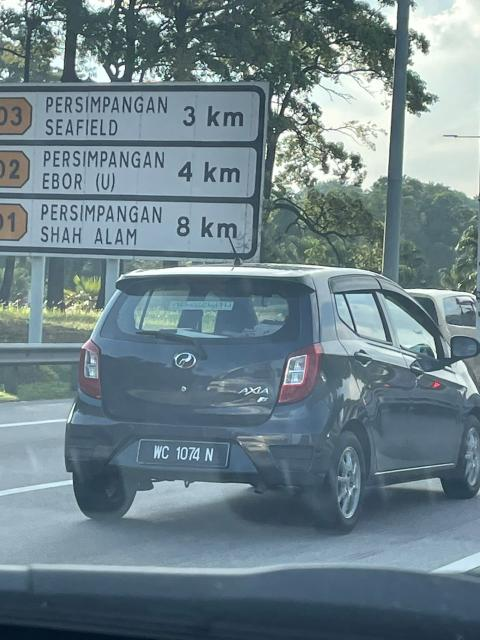License_Plate: (135, 437, 233, 479)
car: (56, 258, 480, 528)
